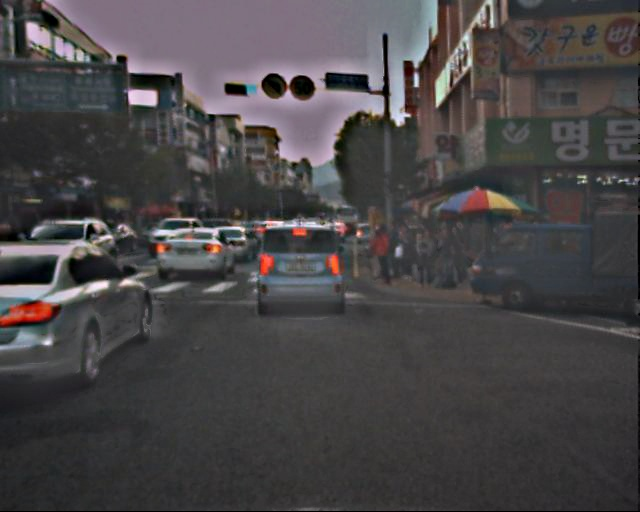person: (396, 217, 468, 280), (369, 222, 394, 282)
